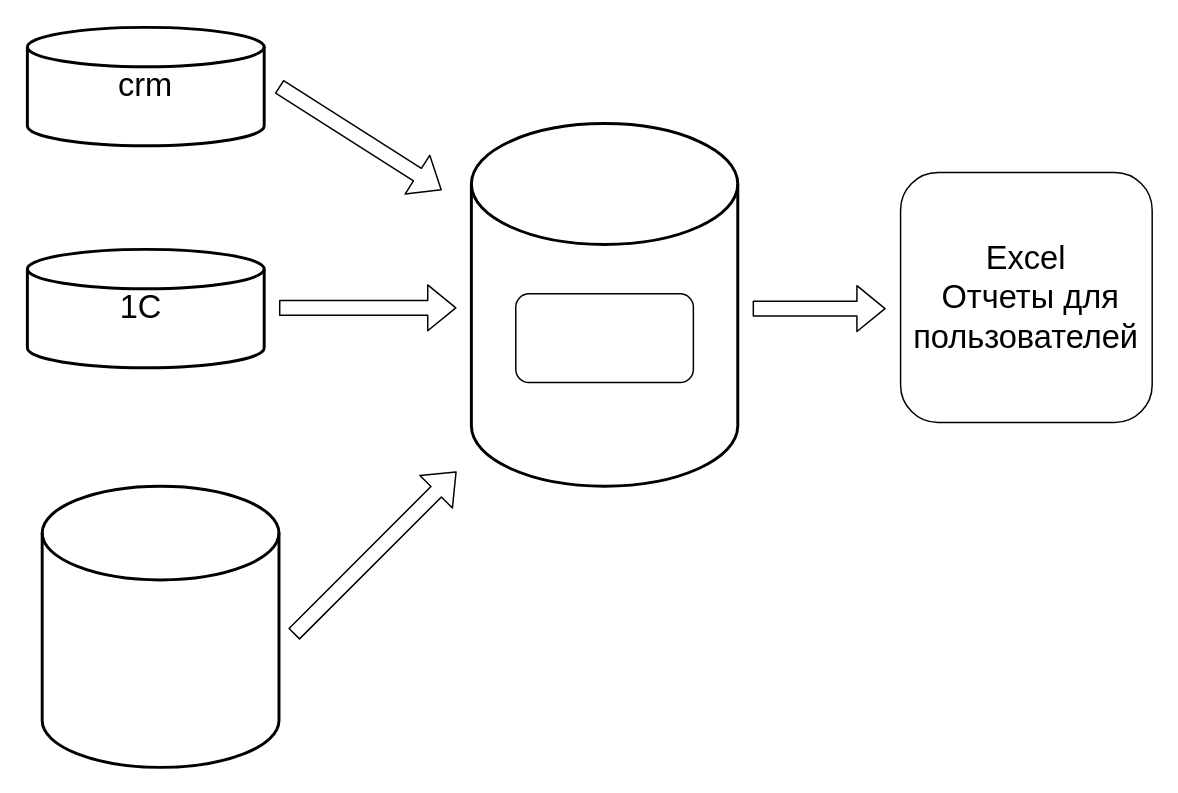
This 1178x793 diagram has some shape labels left out. The shapes that lost their labels are listed below. From the top down, each one's centre as x and y in pixels, then its label:
At [603,337]: "База данных".
At [160,626]: "Остатки и продажи дистрибьютора".
